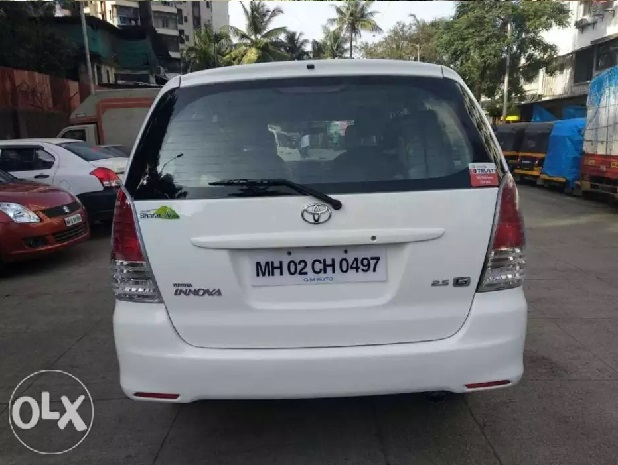licenseplate: (247, 247, 392, 284)
